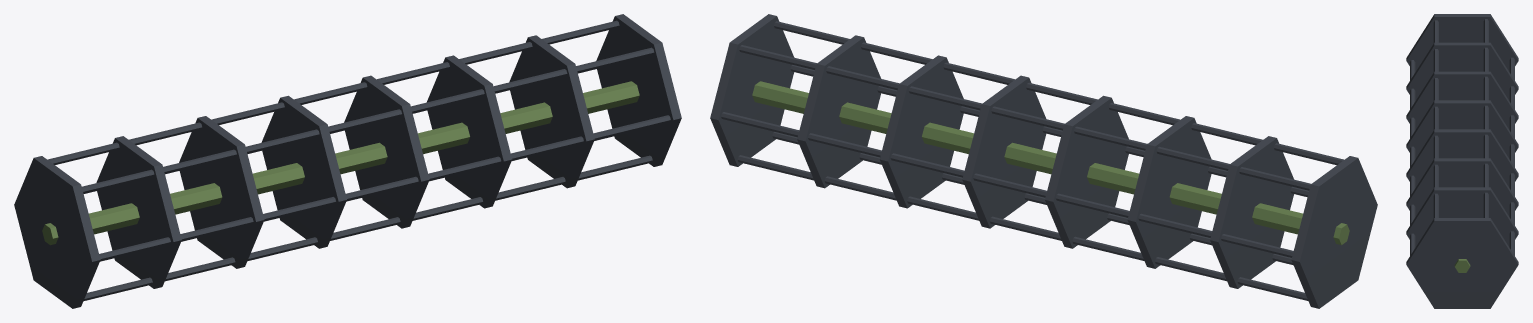
The model's file is HarvesterPart_02.fbx.
The picture shows the model from 3 angles, left to right: view 1: azimuth 30°, elevation 25°; view 2: azimuth 150°, elevation 25°; view 3: azimuth 270°, elevation 25°; orthographic projection. The views are drawn at different scales.
Visible parts, largest first — view 1: HarvesterPart_02; view 2: HarvesterPart_02; view 3: HarvesterPart_02.
Boxes of the visible parts, x1,y1,x2,y2 form: HarvesterPart_02: (14,14,681,308); HarvesterPart_02: (710,14,1377,308); HarvesterPart_02: (1406,14,1518,308).
Size of the model in its own units: 2.85 by 0.5558 by 0.6418.
